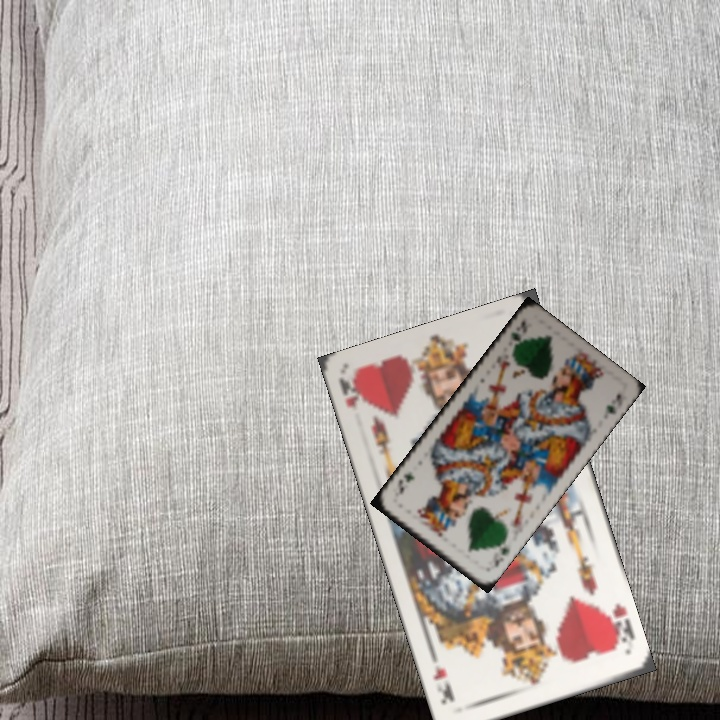GK: (487, 536, 514, 573), (506, 317, 530, 353)
HK: (599, 599, 638, 652), (335, 372, 367, 412)
